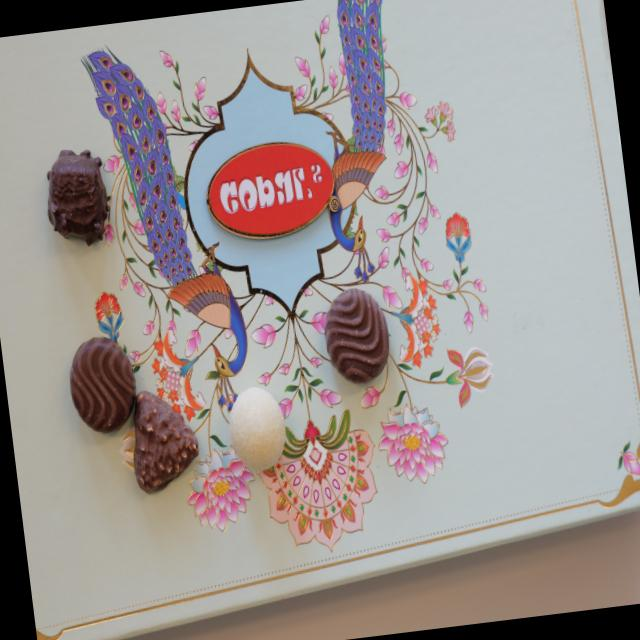Comtesse: (225, 385, 289, 472)
Noir_authentique: (66, 333, 140, 436), (320, 284, 394, 386)
Tentation_noir: (40, 145, 113, 247)
Triangolo: (125, 384, 204, 496)
